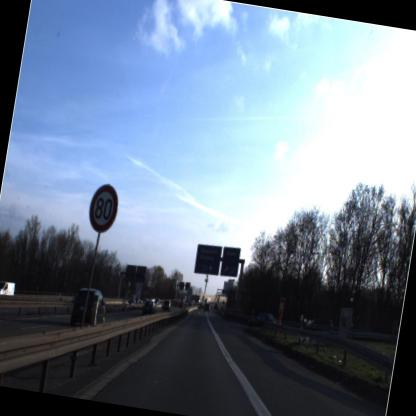prohibitory: (82, 179, 122, 236)
